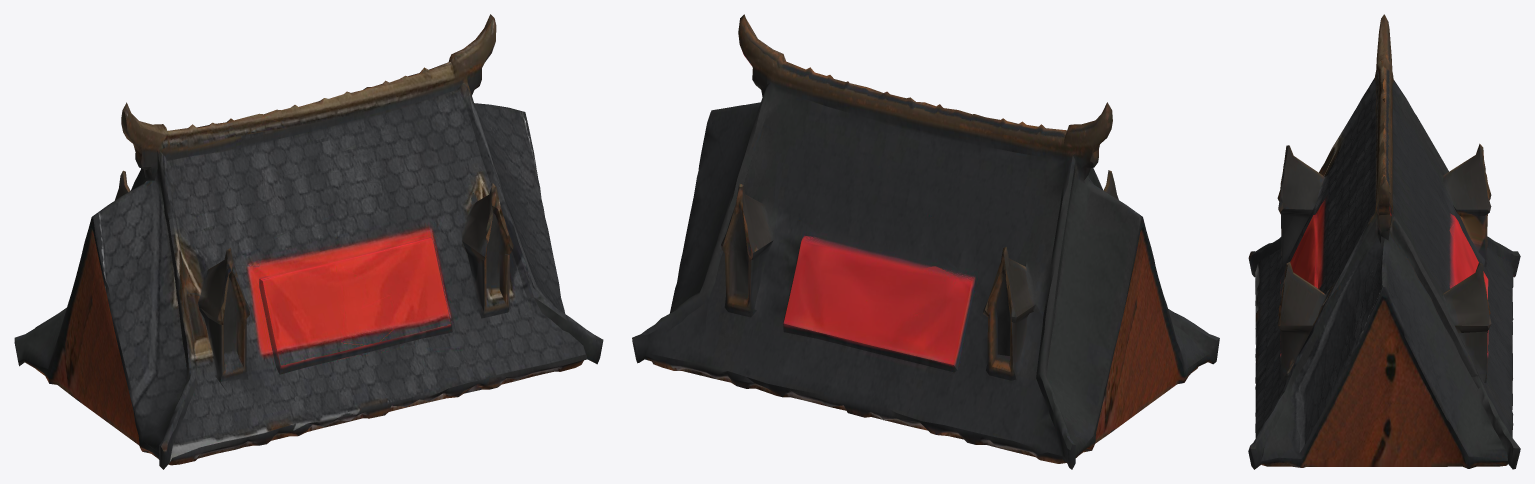
The model's file is ayutthaya_cuartel.glb.
3 views of the same model, side by side, from view 1: azimuth 30°, elevation 25°; view 2: azimuth 150°, elevation 25°; view 3: azimuth 270°, elevation 25° (orthographic). The views are drawn at different scales.
Visible parts, largest first — view 1: geometry_0; view 2: geometry_0; view 3: geometry_0.
Boxes of the visible parts, x1,y1,x2,y2 form: geometry_0: [14, 14, 603, 469]; geometry_0: [632, 14, 1219, 469]; geometry_0: [1248, 14, 1520, 469].
Bounding box in the file's own units: 2.4 × 1.6 × 1.41.
1 material, 1 textured.
